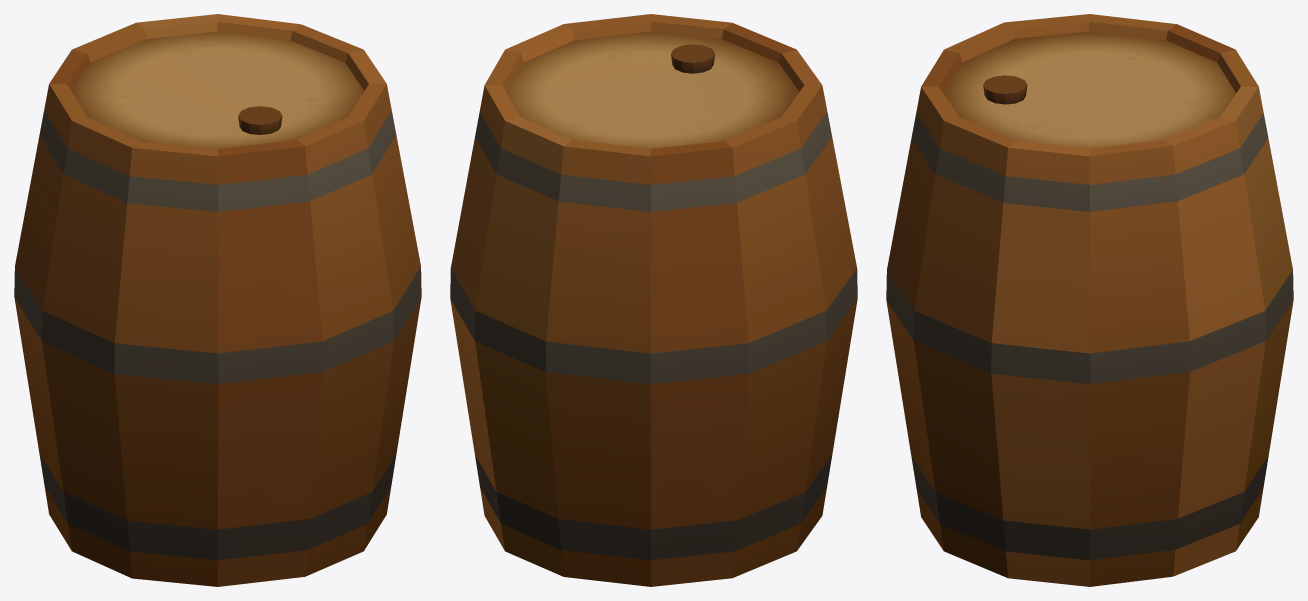
Rendered from Barrel_B.fbx.
The picture shows the model from 3 angles, left to right: view 1: azimuth 30°, elevation 25°; view 2: azimuth 150°, elevation 25°; view 3: azimuth 270°, elevation 25°; orthographic projection.
Parts seen in each view (by area): view 1: Barrel_B; view 2: Barrel_B; view 3: Barrel_B.
Part boxes in pixels (left/top/right/bottom): Barrel_B: left=14, top=14, right=421, bottom=586; Barrel_B: left=450, top=14, right=857, bottom=586; Barrel_B: left=886, top=14, right=1293, bottom=586.
Bounding box in the file's own units: 83.55 × 83.74 × 97.79.
Materials: 1 (1 with a texture image).
